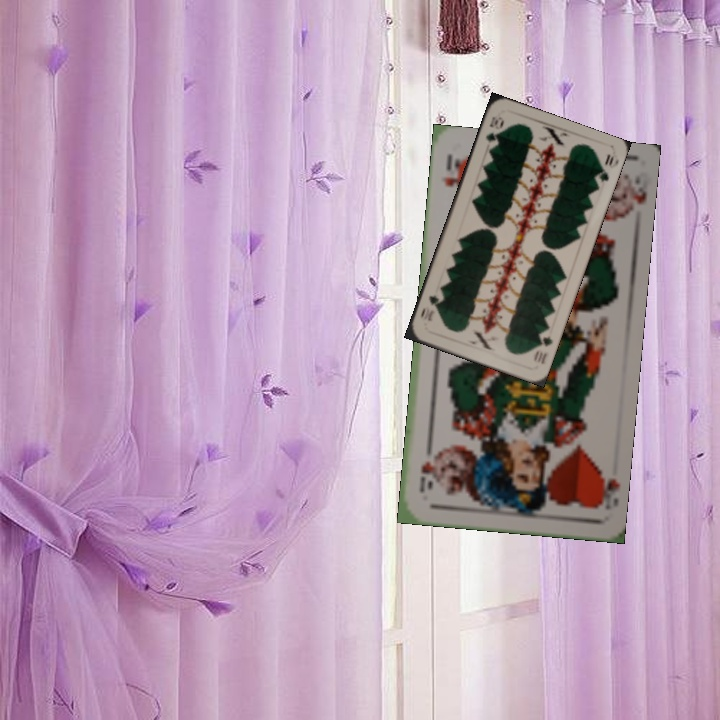G10: (529, 327, 555, 367), (482, 113, 506, 146)
HO: (592, 461, 621, 512), (437, 150, 462, 191)
